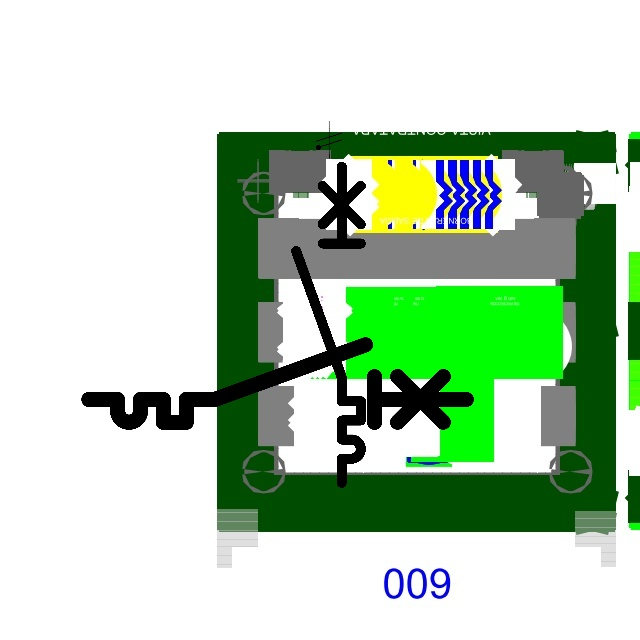interruptor_termomagnetico: (79, 335, 476, 432), (288, 158, 369, 491)
